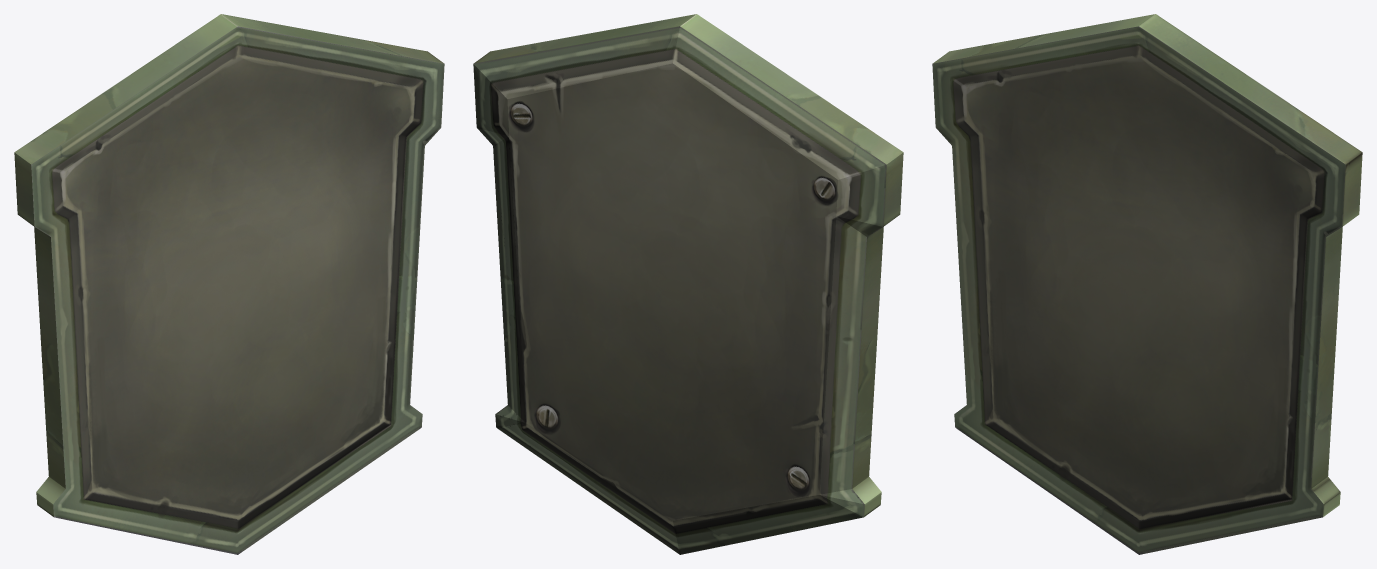
File: back_frame_01.FBX
3 renders of one model, left to right at view 1: azimuth 30°, elevation 25°; view 2: azimuth 150°, elevation 25°; view 3: azimuth 330°, elevation 25°, orthographic.
Visible parts, largest first — view 1: back_frame_01; view 2: back_frame_01; view 3: back_frame_01.
Part boxes in pixels (<box>): back_frame_01: <box>14,14,444,554</box>; back_frame_01: <box>473,14,903,554</box>; back_frame_01: <box>932,14,1362,554</box>.
Bounding box in the file's own units: 2.49 × 3.05 × 0.2519.
1 material, 1 textured.
